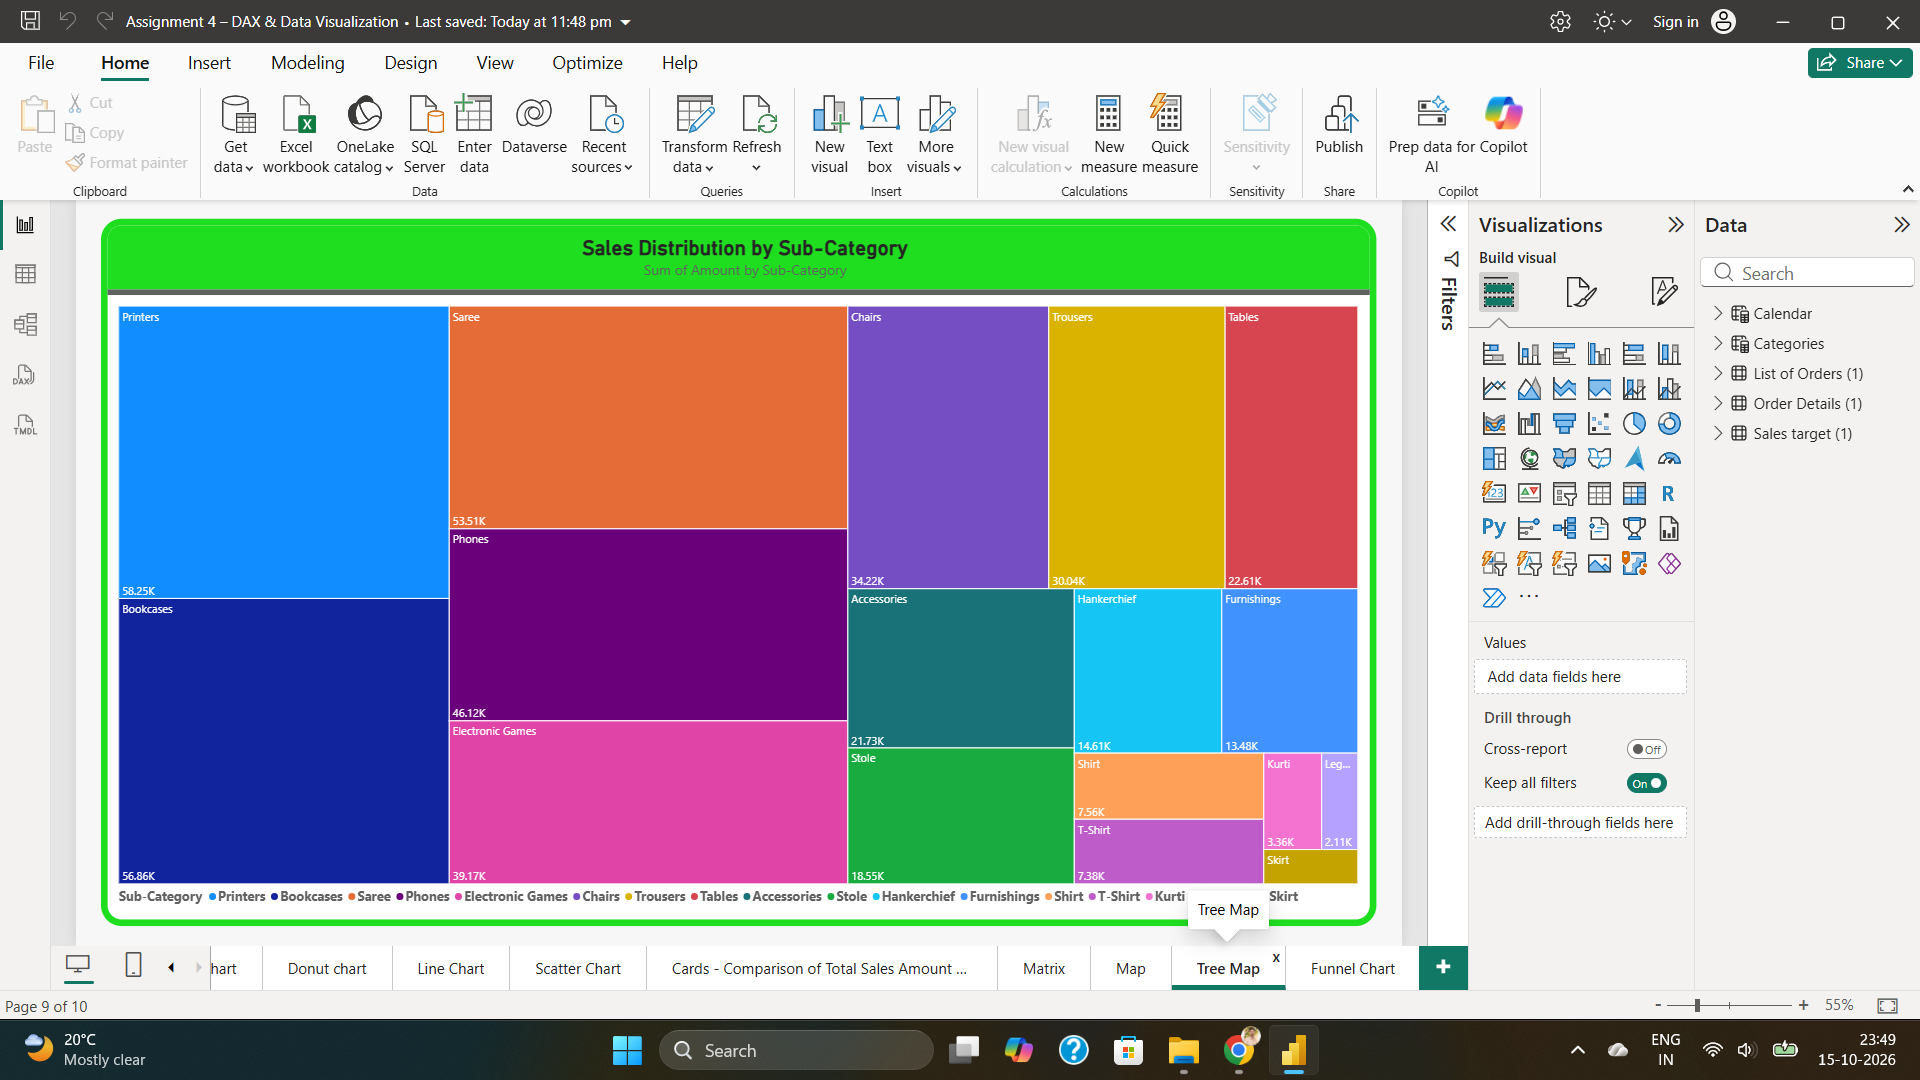

Layout of this report page (visuals, bound fields, positions):
{"tool":"powerbi","page":{"name":"Tree Map","canvas":[1920,1080],"ordinal":8},"visuals":[{"type":"treemap","title":"Sales Distribution by Sub-Category","fields":{"Group":["Order Details (1).Sub-Category"],"Values":["Sum(Order Details (1).Amount)"]},"box":[36.2,27.1,1846,1024],"z":0}]}

Visuals, with their boxes on the page's 1920x1080 design canvas (x1, y1, x2, y2). These are canvas units, not pixel positions in the 1920x1080 screenshot, which may show the page scaled, cropped or inside an application window:
"Sales Distribution by Sub-Category" treemap: region(36, 27, 1882, 1051)
